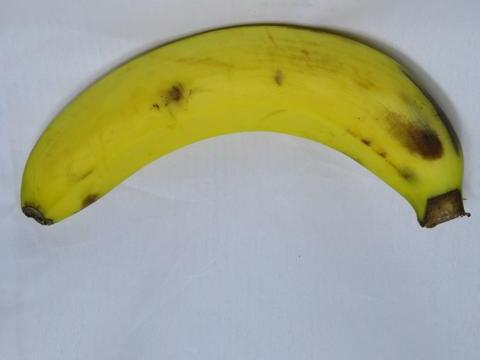freshripe: (5, 10, 479, 249)
